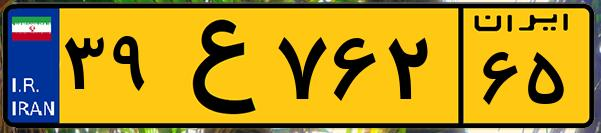2: (385, 28, 445, 110)
3: (57, 26, 110, 100)
5: (525, 38, 570, 115)
6: (330, 28, 385, 110), (475, 38, 525, 113)
7: (270, 28, 330, 110)
9: (110, 28, 158, 98)
ع: (158, 12, 270, 120)
